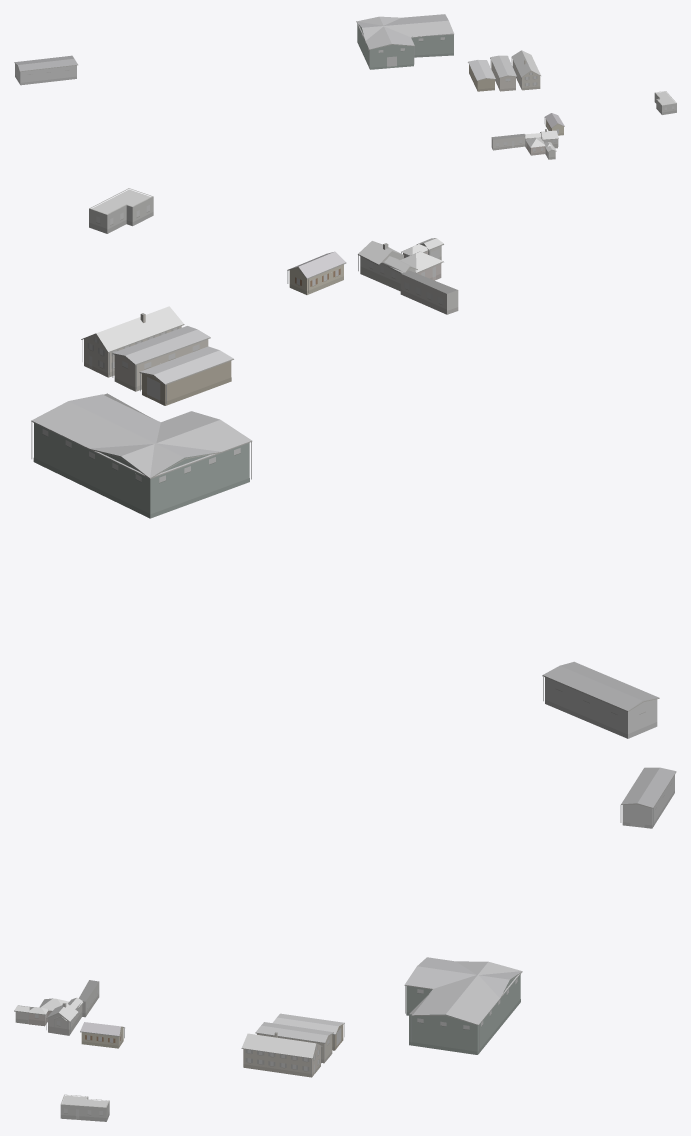
The picture shows the model from 3 angles, top to bottom: view 1: azimuth 30°, elevation 25°; view 2: azimuth 150°, elevation 25°; view 3: azimuth 270°, elevation 25°; orthographic projection. The views are drawn at different scales.
Parts seen in each view (by area): view 1: bld; view 2: bld; view 3: bld.
Part boxes in pixels (x1,y1,x2,y2): bld: [14, 14, 676, 159]; bld: [31, 188, 659, 738]; bld: [14, 767, 676, 1121].
Bounding box in the file's own units: 215 × 11.25 × 178.
